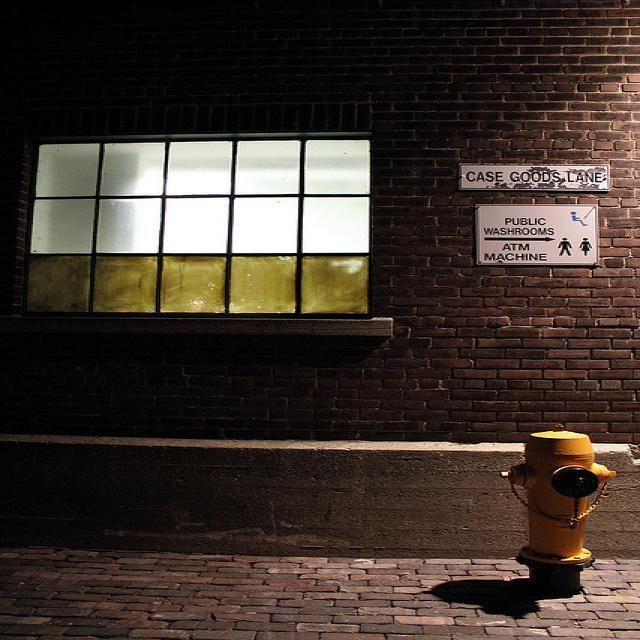fire_hydrant: (499, 423, 616, 598)
